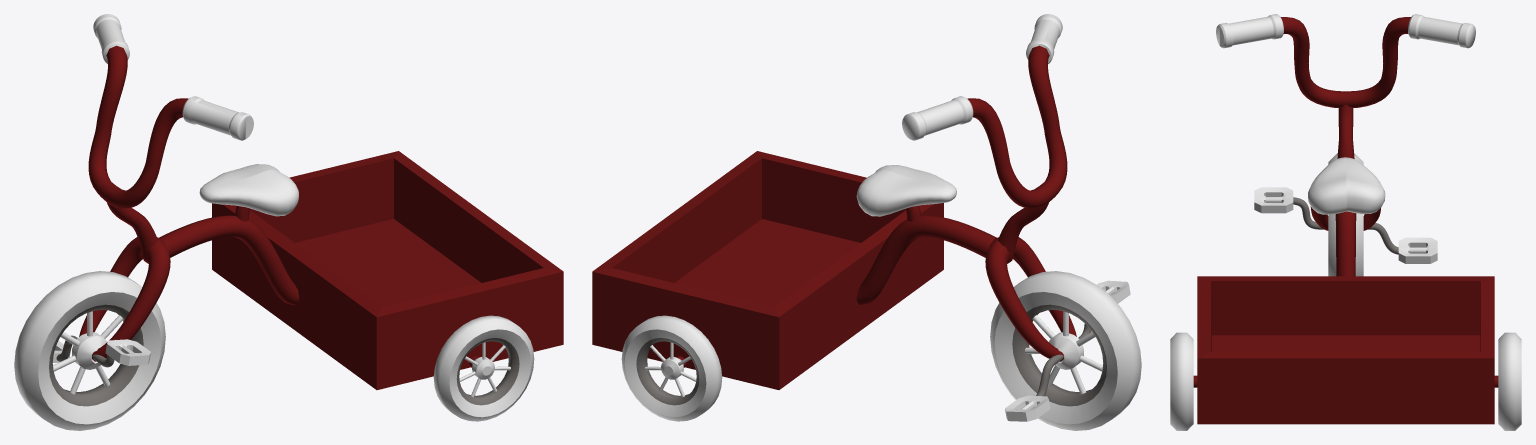
The model's file is Bike.fbx.
3 renders of one model, left to right at view 1: azimuth 30°, elevation 25°; view 2: azimuth 150°, elevation 25°; view 3: azimuth 270°, elevation 25°, orthographic. The views are drawn at different scales.
Visible parts, largest first — view 1: box, Bike, frontweel, BACKWWLE, seat, Handlers, pEDALS, Cylinder, middle; view 2: box, Bike, frontweel, BACKWWLE, seat, Handlers, pEDALS, Cylinder, middle; view 3: box, Bike, BACKWWLE, seat, Handlers, pEDALS, frontweel, Pedals.
Part boxes in pixels (bbox=[...]): box: bbox=[212, 151, 563, 389]; Bike: bbox=[79, 45, 299, 361]; frontweel: bbox=[14, 271, 165, 430]; BACKWWLE: bbox=[433, 315, 534, 421]; seat: bbox=[199, 164, 298, 216]; Handlers: bbox=[93, 14, 253, 140]; pEDALS: bbox=[53, 339, 150, 365]; Cylinder: bbox=[53, 311, 123, 394]; middle: bbox=[72, 332, 106, 369]; box: bbox=[592, 151, 943, 389]; Bike: bbox=[856, 45, 1076, 361]; frontweel: bbox=[990, 271, 1141, 430]; BACKWWLE: bbox=[621, 315, 722, 421]; seat: bbox=[856, 165, 956, 216]; Handlers: bbox=[902, 14, 1062, 140]; pEDALS: bbox=[1005, 280, 1130, 421]; Cylinder: bbox=[1025, 311, 1102, 394]; middle: bbox=[1049, 332, 1083, 369]; box: bbox=[1197, 276, 1494, 424]; Bike: bbox=[1281, 17, 1410, 276]; BACKWWLE: bbox=[1170, 332, 1521, 430]; seat: bbox=[1308, 157, 1385, 214]; Handlers: bbox=[1216, 14, 1475, 48]; pEDALS: bbox=[1254, 187, 1437, 263]; frontweel: bbox=[1328, 153, 1363, 276]; Pedals: bbox=[1293, 197, 1398, 254].
Size of the model in its own units: 130 by 91.33 by 94.82.
